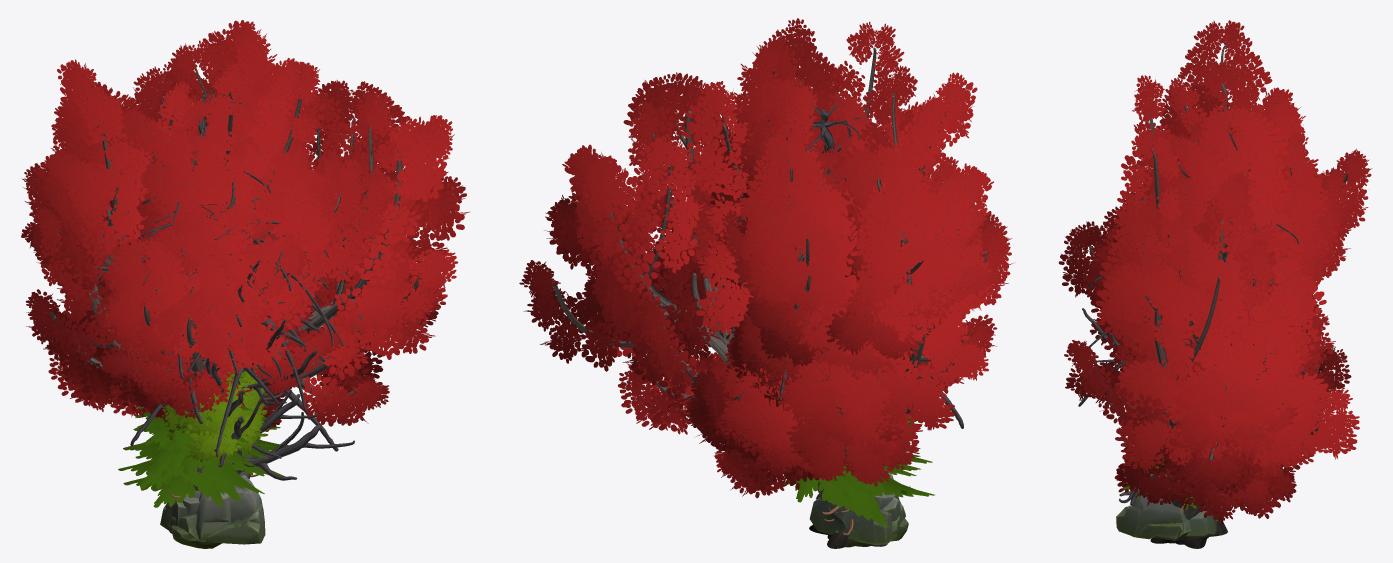
Rendered from nature.glb.
3 views of the same model, side by side, from view 1: azimuth 30°, elevation 25°; view 2: azimuth 150°, elevation 25°; view 3: azimuth 270°, elevation 25° (orthographic). The views are drawn at different scales.
Parts seen in each view (by area): view 1: TwistedTree_2, TwistedTree_1, TwistedTree_3, TwistedTree_4, TwistedTree_5, Rock_Medium_3, DeadTree_2, Pine_2, Pine_5, DeadTree_4, Pine_4, DeadTree_5 (+6 smaller); view 2: TwistedTree_1, TwistedTree_2, TwistedTree_4, TwistedTree_3, TwistedTree_5, Rock_Medium_2, Pine_5, DeadTree_5, Pine_2; view 3: TwistedTree_1, TwistedTree_4, TwistedTree_2, TwistedTree_3, TwistedTree_5, Rock_Medium_3, Rock_Medium_2.
Part boxes in pixels (bbox=[...]): TwistedTree_2: bbox=[21, 59, 320, 490]; TwistedTree_1: bbox=[145, 60, 469, 533]; TwistedTree_3: bbox=[48, 92, 394, 418]; TwistedTree_4: bbox=[66, 20, 367, 433]; TwistedTree_5: bbox=[91, 98, 345, 319]; Rock_Medium_3: bbox=[172, 475, 265, 548]; DeadTree_2: bbox=[182, 245, 354, 480]; Pine_2: bbox=[123, 424, 272, 507]; Pine_5: bbox=[118, 413, 288, 502]; DeadTree_4: bbox=[182, 207, 343, 456]; Pine_4: bbox=[123, 393, 267, 497]; DeadTree_5: bbox=[97, 87, 338, 451]; TwistedTree_1: bbox=[519, 72, 887, 548]; TwistedTree_2: bbox=[721, 18, 1013, 441]; TwistedTree_4: bbox=[710, 37, 937, 489]; TwistedTree_3: bbox=[683, 99, 1011, 498]; TwistedTree_5: bbox=[709, 119, 924, 410]; Rock_Medium_2: bbox=[809, 492, 896, 544]; Pine_5: bbox=[785, 433, 925, 519]; DeadTree_5: bbox=[709, 91, 963, 428]; Pine_2: bbox=[779, 448, 934, 527]; TwistedTree_1: bbox=[1064, 171, 1359, 548]; TwistedTree_4: bbox=[1080, 84, 1372, 380]; TwistedTree_2: bbox=[1100, 20, 1318, 376]; TwistedTree_3: bbox=[1058, 163, 1351, 513]; TwistedTree_5: bbox=[1111, 166, 1350, 379]; Rock_Medium_3: bbox=[1116, 495, 1186, 539]; Rock_Medium_2: bbox=[1186, 510, 1216, 537].
Size of the model in its own units: 17.96 by 19.08 by 12.13.
Materials: 12 (12 with a texture image).
